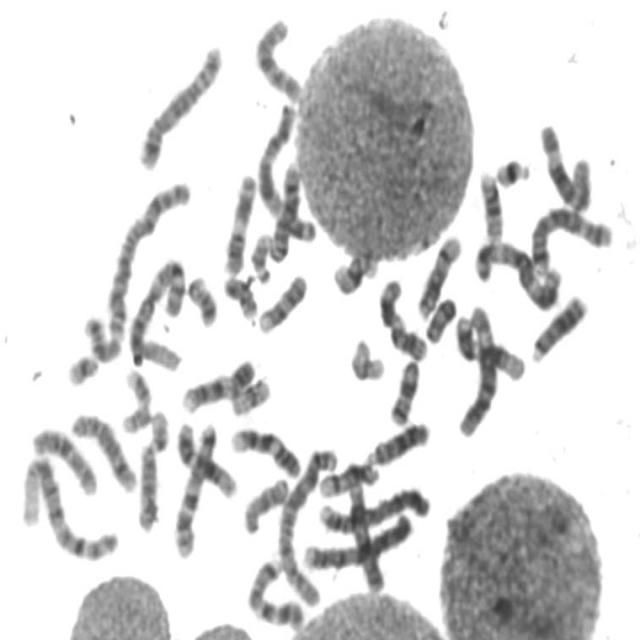A1: (15, 448, 121, 565), (123, 250, 188, 374)
A2: (99, 172, 193, 343), (272, 438, 340, 608)
A3: (252, 97, 318, 246), (468, 231, 564, 312)
B4: (297, 506, 415, 573), (314, 480, 432, 536)
B5: (133, 36, 225, 172), (524, 199, 614, 276)
C10: (26, 419, 100, 498), (249, 10, 304, 105)
C11: (374, 272, 429, 362), (218, 165, 258, 278)
C12: (171, 415, 239, 499), (451, 307, 526, 383)
C6: (452, 298, 500, 439), (534, 115, 594, 215)
C7: (168, 415, 219, 560), (242, 552, 307, 632)
C8: (66, 404, 140, 494), (264, 155, 302, 264)
C9: (177, 352, 258, 415), (226, 421, 303, 480)
D13: (526, 287, 590, 364), (361, 414, 431, 468)
D14: (413, 228, 463, 321), (313, 456, 381, 499)
D15: (238, 470, 292, 536), (132, 439, 160, 534)
E16: (328, 246, 379, 297), (474, 164, 506, 244)
E17: (115, 361, 154, 436), (78, 307, 124, 363)
E18: (384, 353, 421, 428), (420, 289, 459, 345)
F19: (225, 369, 273, 417), (346, 331, 388, 383)
F20: (182, 267, 220, 328), (219, 269, 259, 320)
G21: (490, 150, 533, 190), (62, 346, 101, 389)
G22: (246, 225, 275, 285), (143, 403, 170, 456)
X: (342, 471, 387, 595)
